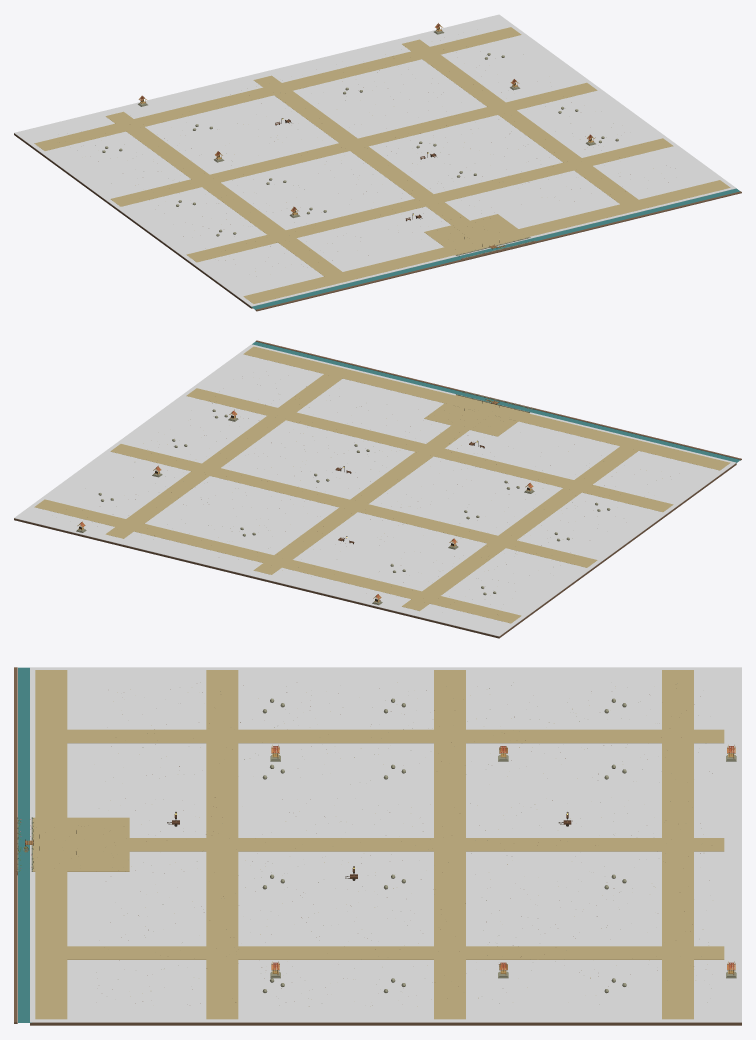
The model's file is bangsai-wilds.glb.
3 views of the same model, one above another, from view 1: azimuth 30°, elevation 25°; view 2: azimuth 150°, elevation 25°; view 3: azimuth 270°, elevation 25° (orthographic). The views are drawn at different scales.
Visible parts, largest first — view 1: Expanded ground · meadow, Regional avenues · sand, River extension · water, Far bank extension · earth, Terrain · sand, Expanded ground · earth; view 2: Expanded ground · meadow, Regional avenues · sand, Expanded ground · earth, River extension · water, Terrain · sand, Far bank extension · earth; view 3: Expanded ground · meadow, Regional avenues · sand, River extension · water, Expanded ground · earth, Terrain · sand, Far bank extension · earth, Forest boulders · stone, River · water.
Part boxes in pixels (left/top/right/bottom): Expanded ground · meadow: left=14, top=14, right=736, bottom=306; Regional avenues · sand: left=34, top=27, right=730, bottom=303; River extension · water: left=251, top=188, right=739, bottom=309; Far bank extension · earth: left=255, top=191, right=741, bottom=311; Terrain · sand: left=424, top=214, right=528, bottom=255; Expanded ground · earth: left=14, top=133, right=252, bottom=308; Expanded ground · meadow: left=14, top=344, right=736, bottom=636; Regional avenues · sand: left=34, top=346, right=730, bottom=623; Expanded ground · earth: left=14, top=463, right=736, bottom=638; River extension · water: left=252, top=341, right=740, bottom=463; Terrain · sand: left=424, top=395, right=529, bottom=436; Far bank extension · earth: left=255, top=340, right=741, bottom=460; Expanded ground · meadow: left=30, top=667, right=741, bottom=1022; Regional avenues · sand: left=35, top=670, right=724, bottom=1019; River extension · water: left=18, top=667, right=31, bottom=1022; Expanded ground · earth: left=30, top=1022, right=741, bottom=1025; Terrain · sand: left=33, top=817, right=129, bottom=871; Far bank extension · earth: left=14, top=667, right=17, bottom=1023; Forest boulders · stone: left=262, top=698, right=626, bottom=993; River · water: left=18, top=818, right=29, bottom=872.
Size of the model in its own units: 236 by 5.54 by 204.
